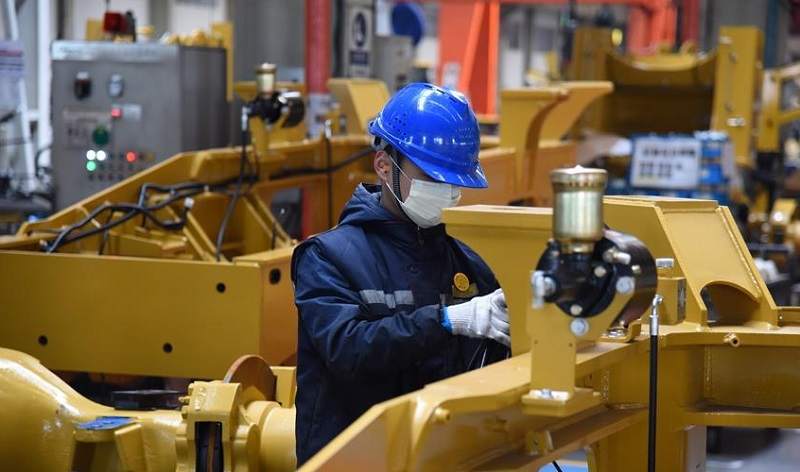safetyhat: (293, 82, 513, 376)
